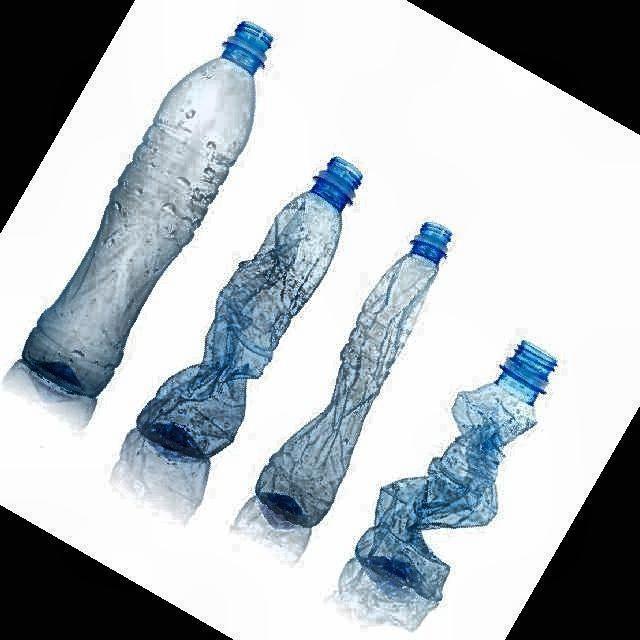plastic: (22, 22, 272, 397), (138, 158, 362, 459), (256, 222, 451, 527), (356, 341, 556, 601)
